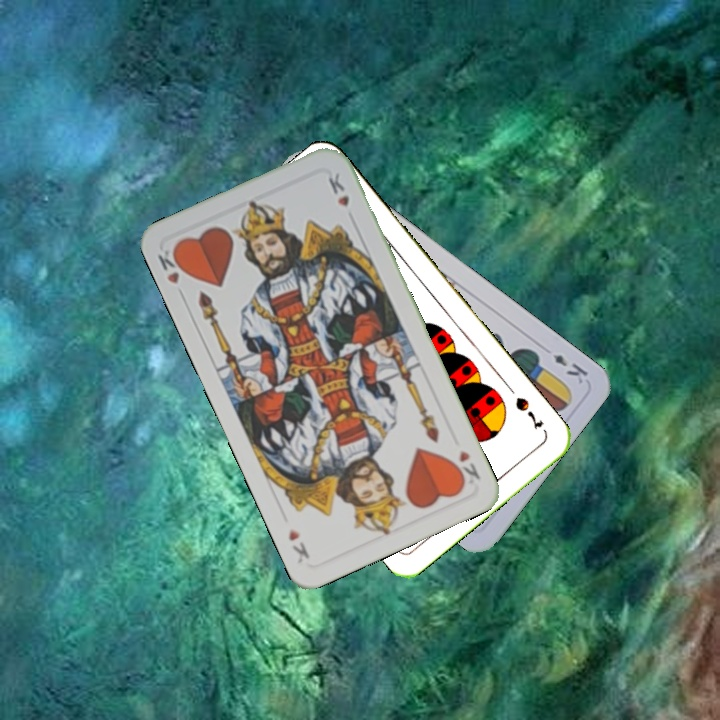EK: (549, 349, 591, 387)
HK: (154, 243, 190, 302), (455, 446, 483, 487)
S7: (511, 393, 546, 432)
